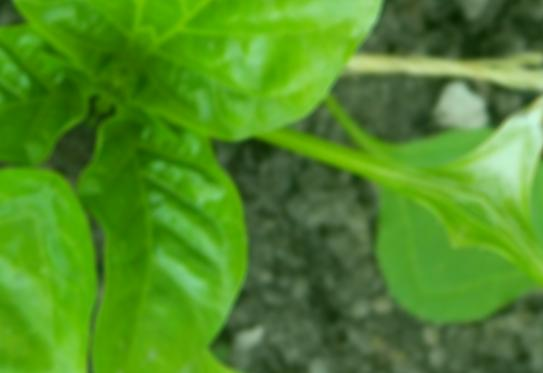Tomato leaf: (4, 126, 419, 373), (117, 0, 424, 186)
